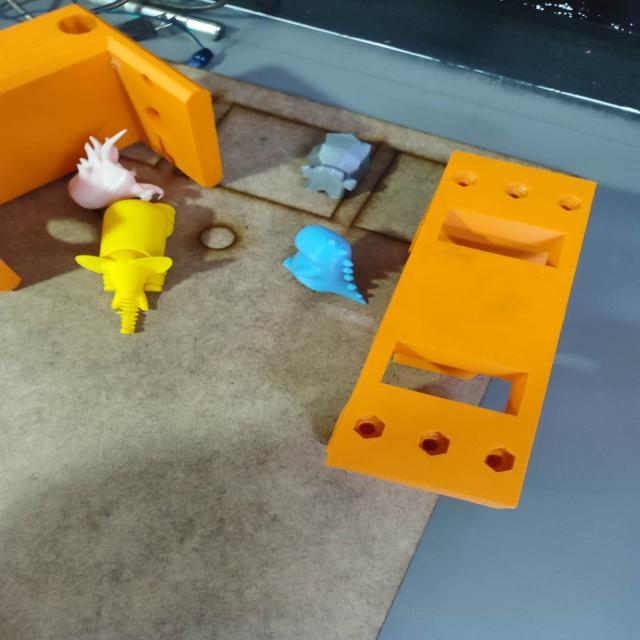DINO: (270, 208, 372, 306)
